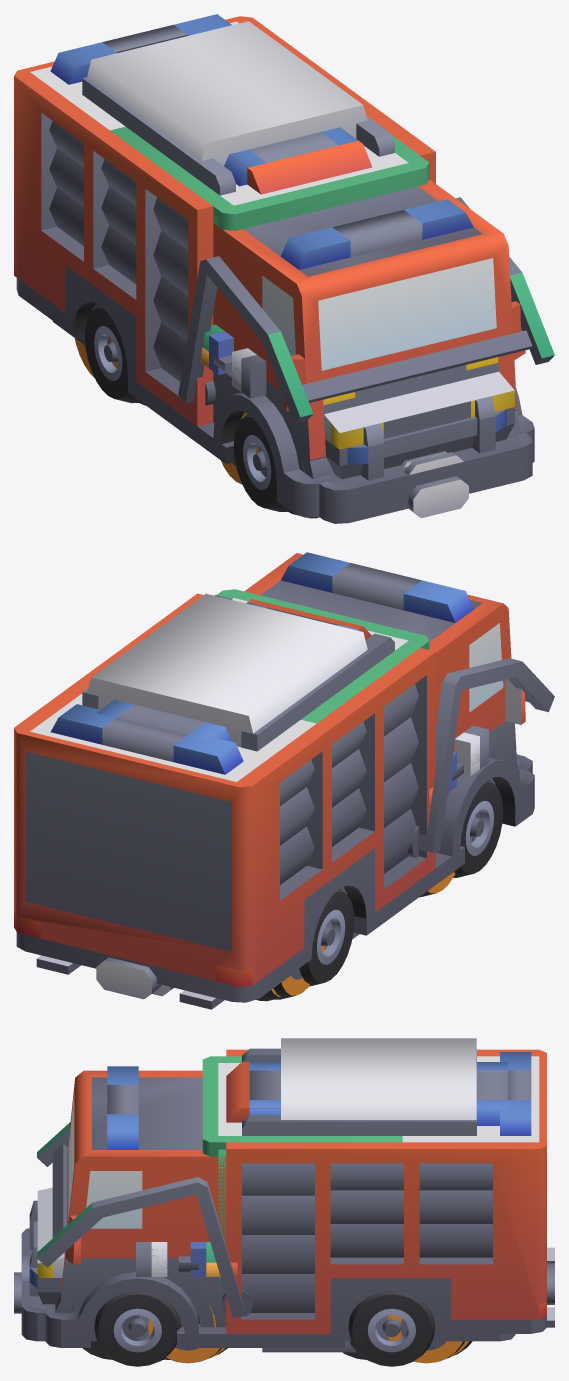
File: kit-cars.glb
3 renders of one model, top to bottom at view 1: azimuth 30°, elevation 25°; view 2: azimuth 150°, elevation 25°; view 3: azimuth 270°, elevation 25°, orthographic. The views are drawn at different scales.
Parts seen in each view (by area): view 1: body (×4), arm, grill, wheel-front-right, wheel-back-right; view 2: body (×3), arm, wheel-back-right (×2), wheel-front-right; view 3: body (×10), arm, wheel-back-left (×2), wheel-front-left (×2), grill.
Boxes of the visible parts, x1=… form: body (×4): x1=14, y1=14, x2=534, y2=523; arm: x1=178, y1=197, x2=554, y2=423; grill: x1=328, y1=396, x2=519, y2=485; wheel-front-right: x1=233, y1=414, x2=288, y2=511; wheel-back-right: x1=85, y1=305, x2=139, y2=403; body (×3): x1=14, y1=552, x2=534, y2=1009; arm: x1=407, y1=658, x2=554, y2=857; wheel-back-right (×2): x1=272, y1=889, x2=354, y2=999; wheel-front-right: x1=453, y1=780, x2=503, y2=877; body (×10): x1=14, y1=1038, x2=554, y2=1352; arm: x1=37, y1=1122, x2=253, y2=1318; wheel-back-left (×2): x1=348, y1=1291, x2=464, y2=1366; wheel-front-left (×2): x1=94, y1=1291, x2=221, y2=1366; grill: x1=22, y1=1200, x2=45, y2=1309.
Bounding box in the file's own units: 1.6 × 1.8 × 3.45.
1 material, 1 textured.
